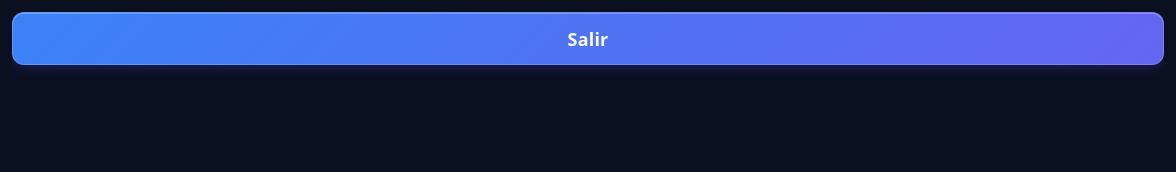
Test: ConfirmButton › Debería llamar a onConfirm y volver al botón inicial al confirmar
Step 1. Click the button "Salir" → (588, 39), box [12,12,1164,65]
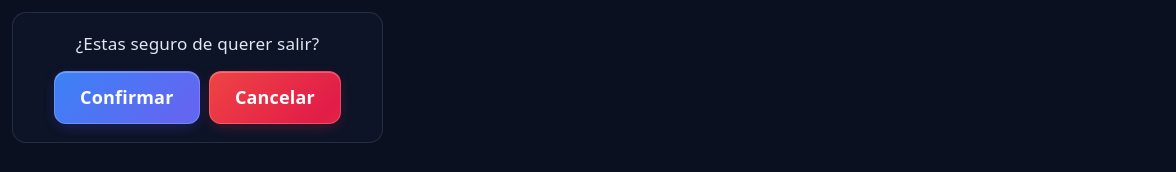
Step 2. Click the button "Confirmar" → (127, 97), box [54,71,200,124]
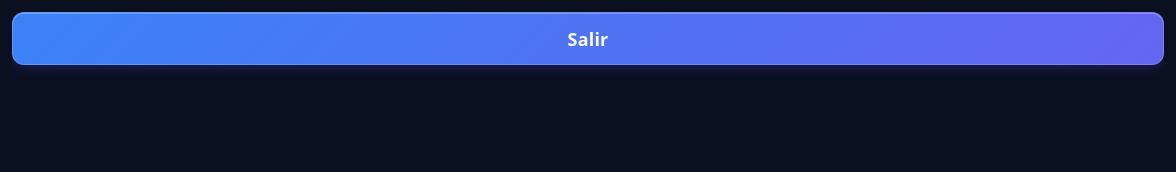
Expected: the button "Salir" is shown, [12,12,1164,65]
Result: the text "¿Estas seguro de querer salir?" is gone
